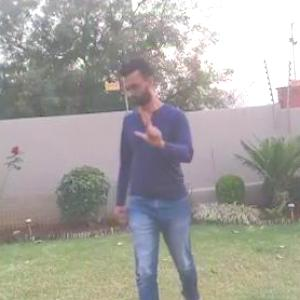land_hand: (131, 109, 165, 147)
